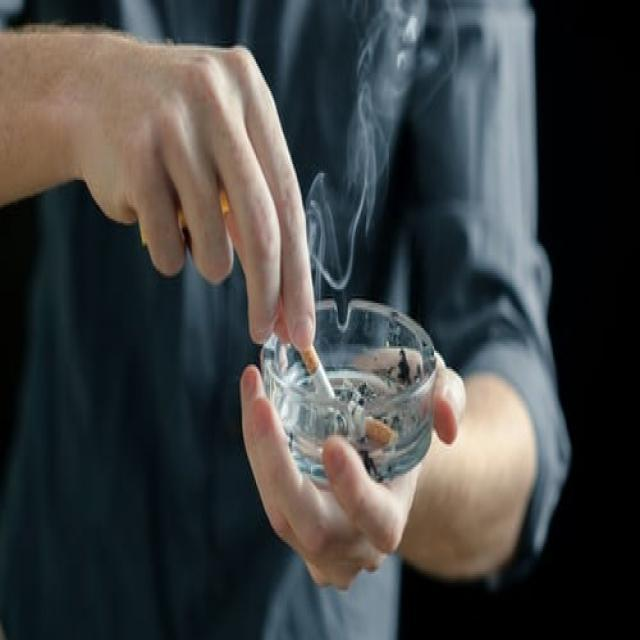rokok: (294, 336, 342, 398)
